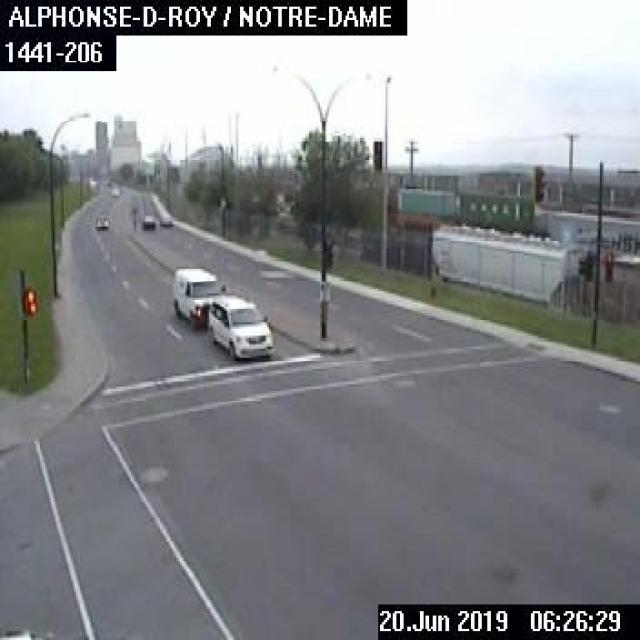vehicle: (204, 291, 273, 358), (170, 264, 226, 326), (156, 211, 174, 230), (138, 209, 155, 229), (93, 211, 109, 229), (105, 182, 120, 196)
